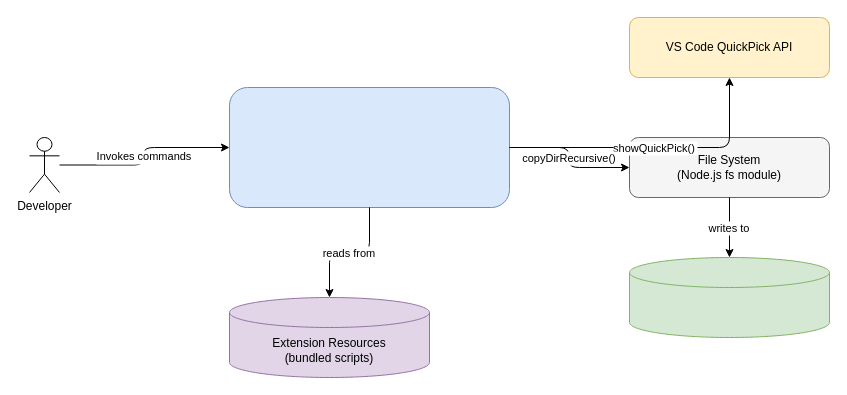
The diagram is 847 pixels wide and 395 high, and some of its shapes have lost their labels. Here are the shapes that lost their labels. From the top down, the centre of each, then its label:
[369,147]: Kiro SDLC Extension (VS Code Extension Host)
[729,297]: Workspace Directory (.analysis/code-intelligence/)
